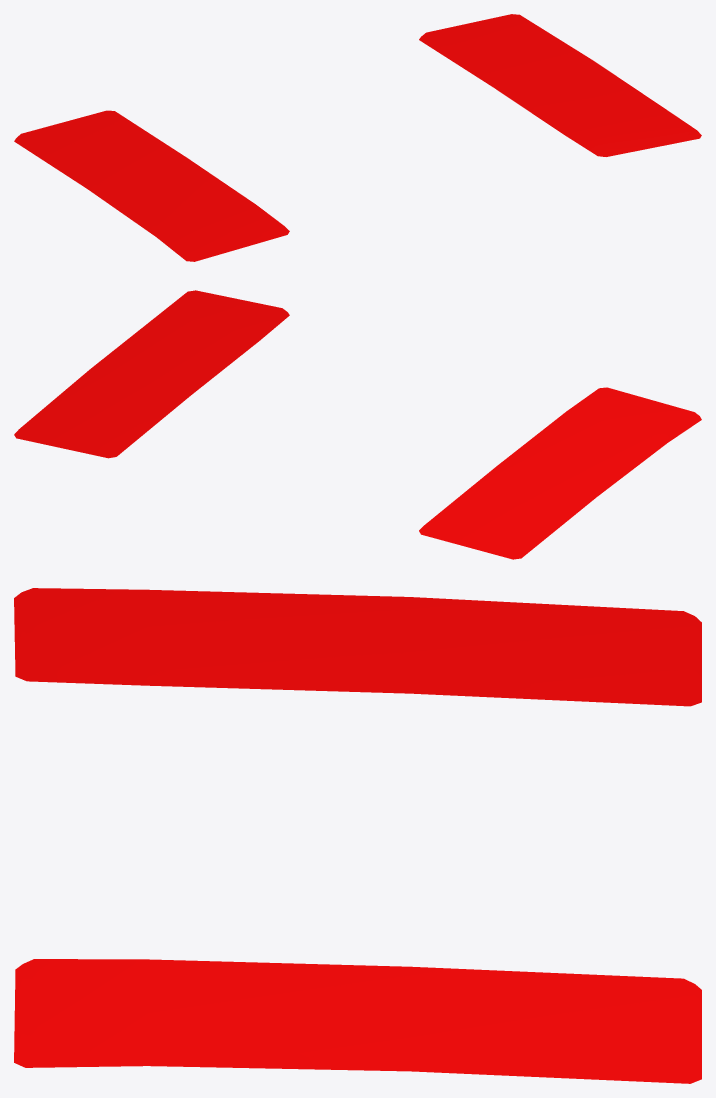
File: Camaro_Bonnet01_Grill.fbx
3 renders of one model, top to bottom at view 1: azimuth 30°, elevation 25°; view 2: azimuth 150°, elevation 25°; view 3: azimuth 270°, elevation 25°, orthographic. The views are drawn at different scales.
Parts seen in each view (by area): view 1: Camaro_Bonnet01_Grill; view 2: Camaro_Bonnet01_Grill; view 3: Camaro_Bonnet01_Grill.
Part boxes in pixels (left/top/right/bottom): Camaro_Bonnet01_Grill: left=14, top=14, right=701, bottom=261; Camaro_Bonnet01_Grill: left=14, top=290, right=701, bottom=559; Camaro_Bonnet01_Grill: left=14, top=588, right=701, bottom=1083.
Bounding box in the file's own units: 0.5644 × 0.3462 × 0.0203.
